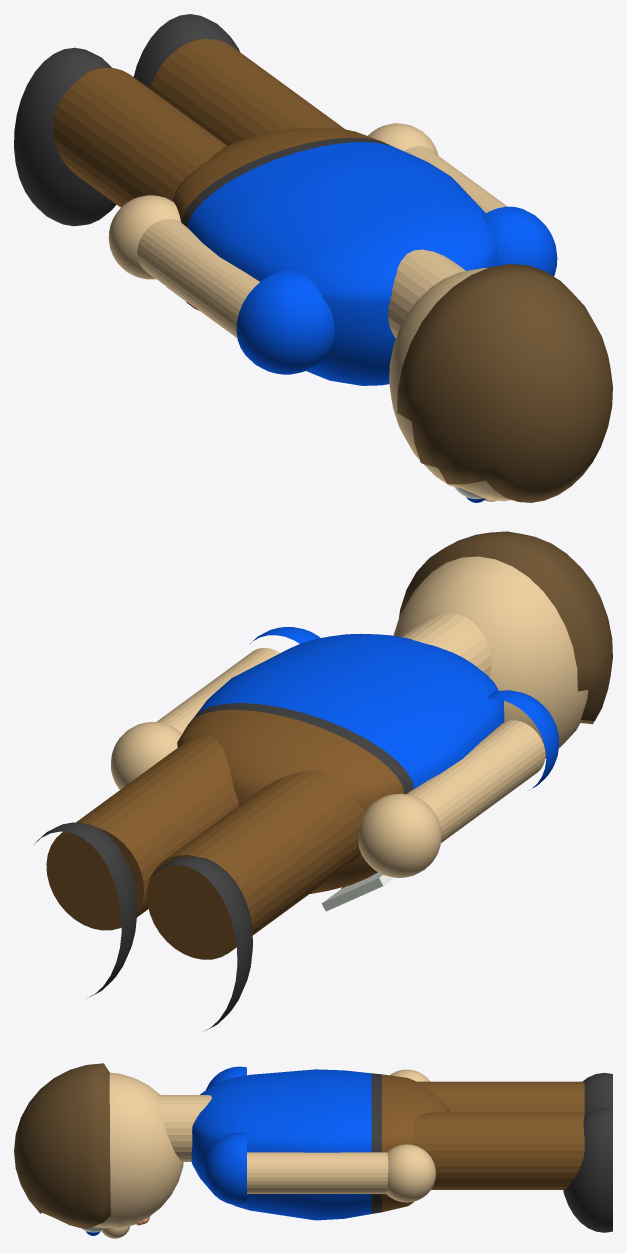
Rendered from rcarmack.glb.
The picture shows the model from 3 angles, top to bottom: view 1: azimuth 30°, elevation 25°; view 2: azimuth 150°, elevation 25°; view 3: azimuth 270°, elevation 25°; orthographic projection. The views are drawn at different scales.
Parts seen in each view (by area): view 1: Sphere.009, Sphere, Cylinder.010, Cylinder.011, Sphere.015, Sphere.012, Cylinder.013, Sphere.011, Sphere.001, Sphere.013, Cylinder, Sphere.014 (+2 smaller); view 2: Sphere.009, Cylinder.010, Cylinder.011, Sphere.001, Sphere, Cylinder.013, Sphere.013, Sphere.015, Sphere.014, Sphere.010, Cylinder, Cylinder.012 (+2 smaller); view 3: Sphere.009, Sphere, Cylinder.011, Sphere.001, Cylinder.012, Cylinder.010, Sphere.014, Sphere.011, Sphere.010, Cylinder, Sphere.015, Sphere.012 (+1 smaller).
Boxes of the visible parts, bbox=[...] form: Sphere.009: bbox=[172, 128, 497, 385]; Sphere: bbox=[397, 264, 612, 502]; Cylinder.010: bbox=[52, 68, 226, 207]; Cylinder.011: bbox=[150, 38, 344, 145]; Sphere.015: bbox=[14, 47, 116, 226]; Sphere.012: bbox=[236, 270, 334, 374]; Cylinder.013: bbox=[137, 219, 259, 338]; Sphere.011: bbox=[482, 206, 557, 276]; Sphere.001: bbox=[389, 267, 511, 501]; Sphere.013: bbox=[108, 195, 180, 279]; Cylinder: bbox=[388, 249, 465, 337]; Sphere.014: bbox=[133, 14, 239, 88]; Sphere.009: bbox=[177, 633, 504, 893]; Cylinder.010: bbox=[147, 770, 365, 959]; Cylinder.011: bbox=[46, 735, 238, 930]; Sphere.001: bbox=[393, 556, 588, 758]; Sphere: bbox=[399, 531, 612, 724]; Cylinder.013: bbox=[406, 720, 545, 842]; Sphere.013: bbox=[358, 793, 441, 877]; Sphere.015: bbox=[149, 856, 252, 1030]; Sphere.014: bbox=[34, 822, 136, 997]; Sphere.010: bbox=[111, 722, 181, 789]; Cylinder: bbox=[401, 612, 491, 677]; Cylinder.012: bbox=[156, 648, 279, 733]; Sphere.009: bbox=[191, 1069, 449, 1220]; Sphere: bbox=[14, 1063, 110, 1229]; Cylinder.011: bbox=[414, 1112, 584, 1189]; Sphere.001: bbox=[95, 1072, 183, 1229]; Cylinder.012: bbox=[247, 1152, 388, 1193]; Cylinder.010: bbox=[417, 1081, 584, 1112]; Sphere.014: bbox=[563, 1108, 612, 1232]; Sphere.011: bbox=[203, 1132, 246, 1205]; Sphere.010: bbox=[386, 1144, 435, 1202]; Cylinder: bbox=[159, 1095, 211, 1161]; Sphere.015: bbox=[582, 1073, 612, 1114]; Sphere.012: bbox=[206, 1066, 246, 1089].
Bounding box in the file's own units: 0.7678 × 0.5518 × 1.81.
